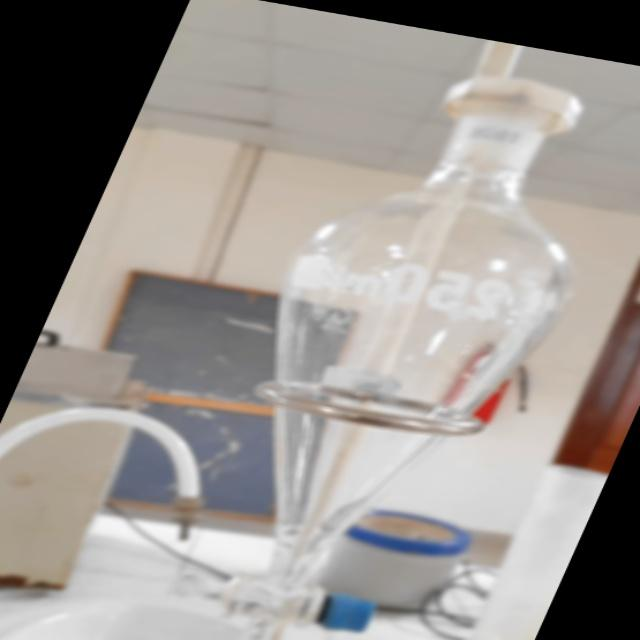Separating Funnel: (84, 37, 640, 640)
